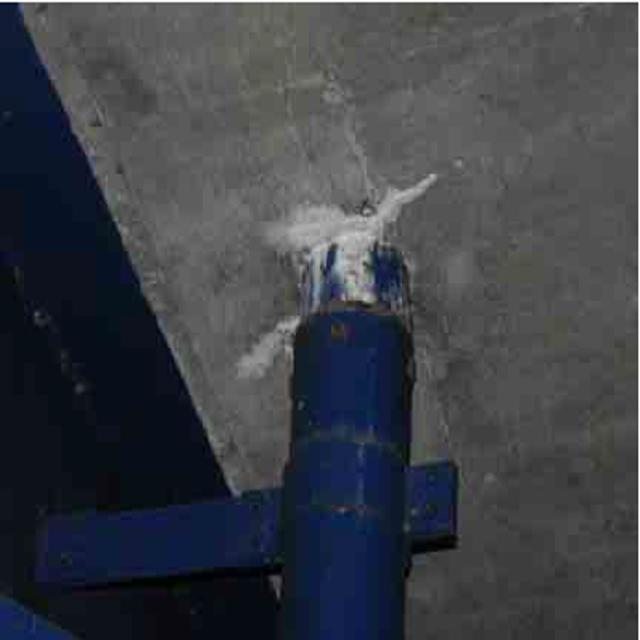freelime: (273, 167, 436, 293)
